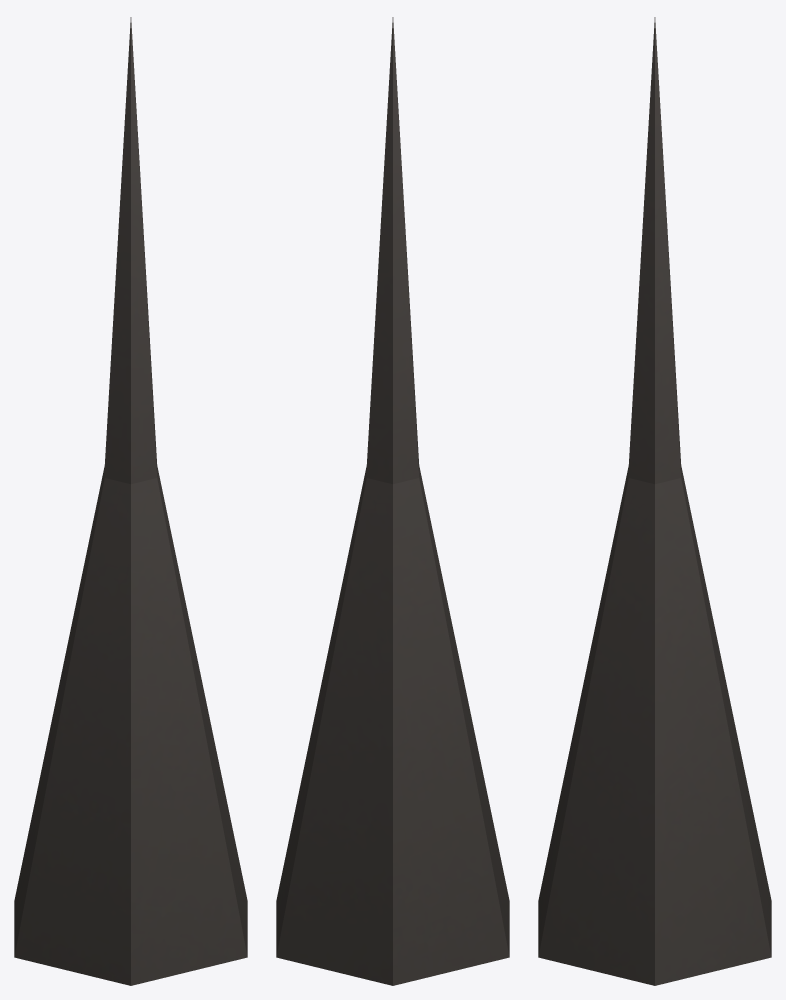
The model's file is Stal_9B.fbx.
3 views of the same model, side by side, from view 1: azimuth 30°, elevation 25°; view 2: azimuth 150°, elevation 25°; view 3: azimuth 270°, elevation 25° (orthographic).
Parts seen in each view (by area): view 1: pCone15; view 2: pCone15; view 3: pCone15.
Part boxes in pixels (x1=…): pCone15: x1=14, y1=17, x2=247, y2=985; pCone15: x1=276, y1=17, x2=509, y2=985; pCone15: x1=538, y1=17, x2=771, y2=985.
Size of the model in its own units: 48 by 180 by 41.57.
Materials: 1 (1 with a texture image).
